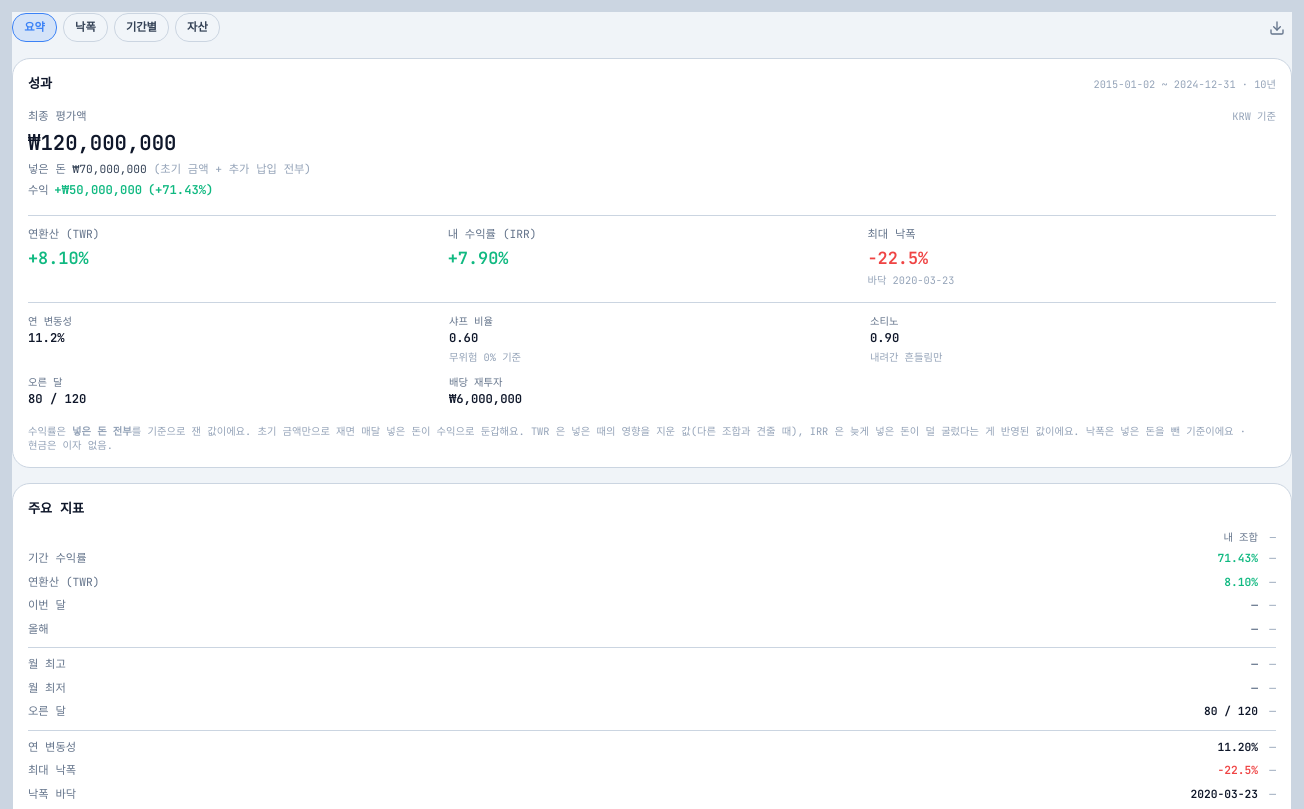
Test case: 자산마다 — 누가 얼마를 벌었나 › 잃은 자산이 섞이면 '번 돈의 103%' 대신 잃었다고 말한다
The image size is (1304, 809).
Click the tab "자산" at x=197, y=28, box [175,13,220,42]
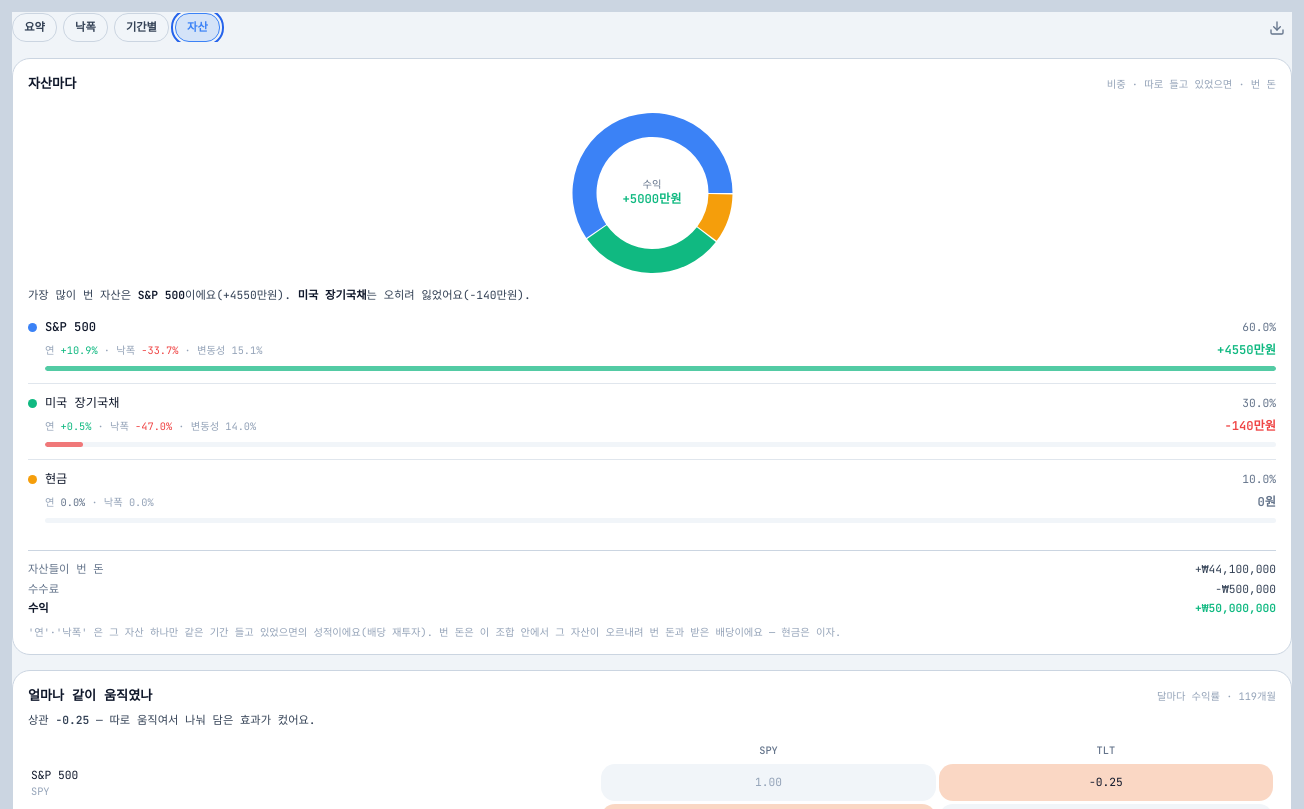
Expected: the text "가장 많이 번 자산은 S&P 500이에요(+4550만원). 미국 장기국채는 오히려 잃었어요(-140만원)." is shown, [28,288,531,302]
